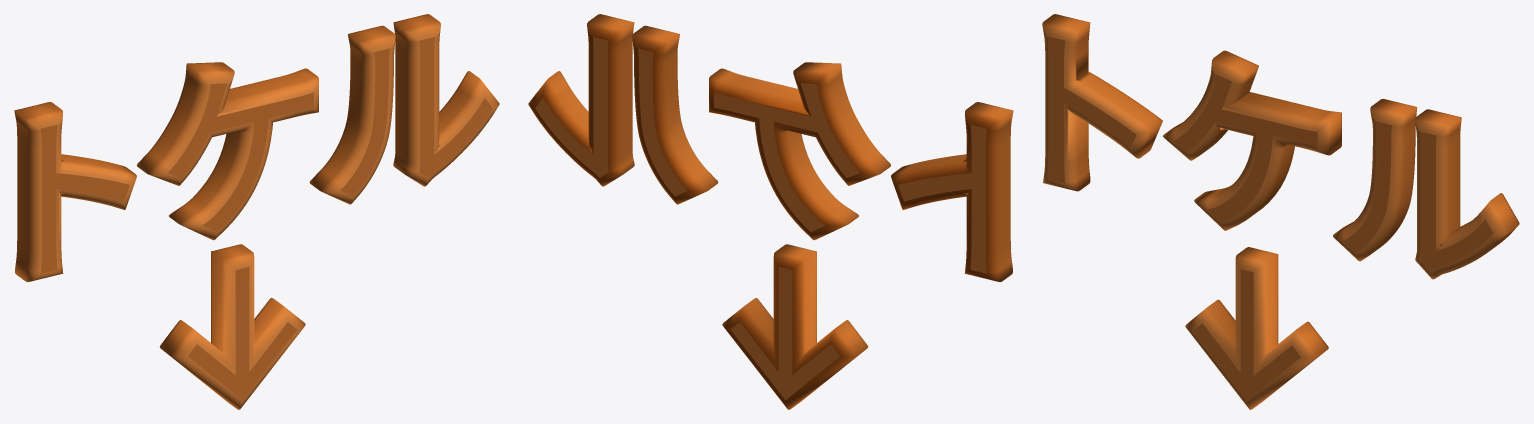
File: tokeru.obj
The picture shows the model from 3 angles, left to right: view 1: azimuth 30°, elevation 25°; view 2: azimuth 150°, elevation 25°; view 3: azimuth 330°, elevation 25°; orthographic projection.
Parts seen in each view (by area): view 1: テキスト; view 2: テキスト; view 3: テキスト.
Part boxes in pixels (<box>): テキスト: <box>14,14,499,409</box>; テキスト: <box>528,14,1013,409</box>; テキスト: <box>1042,14,1519,409</box>.
Size of the model in its own units: 2.74 by 1.93 by 0.2.
1 material, 1 textured.
